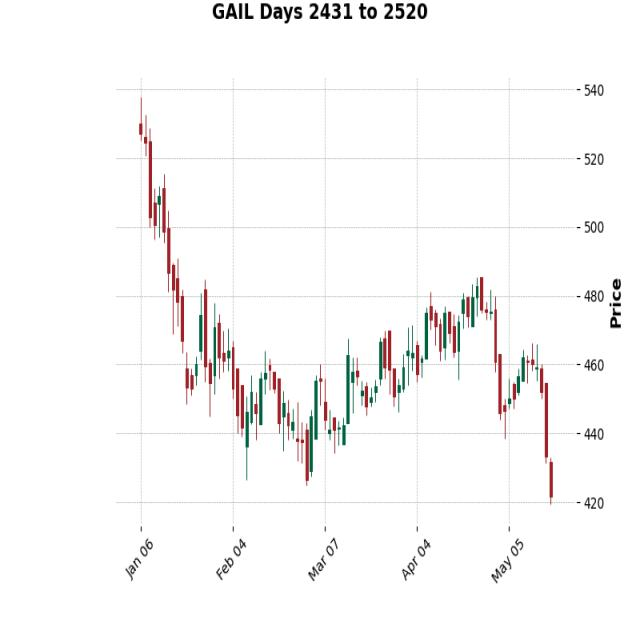Cup and Handle: (152, 246, 527, 522)
